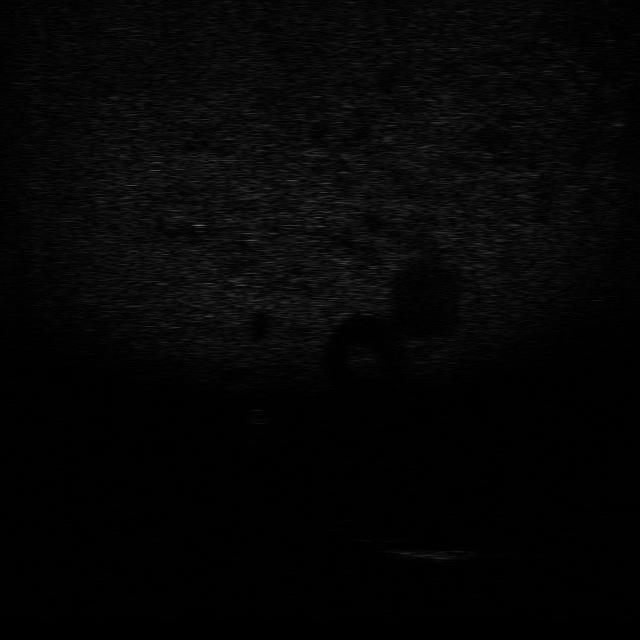ball: (242, 407, 276, 426)
metal bucket: (386, 541, 482, 566)
tyre: (328, 517, 408, 545)
